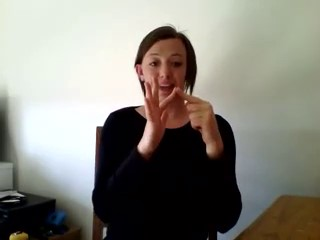E: (131, 71, 230, 150)
